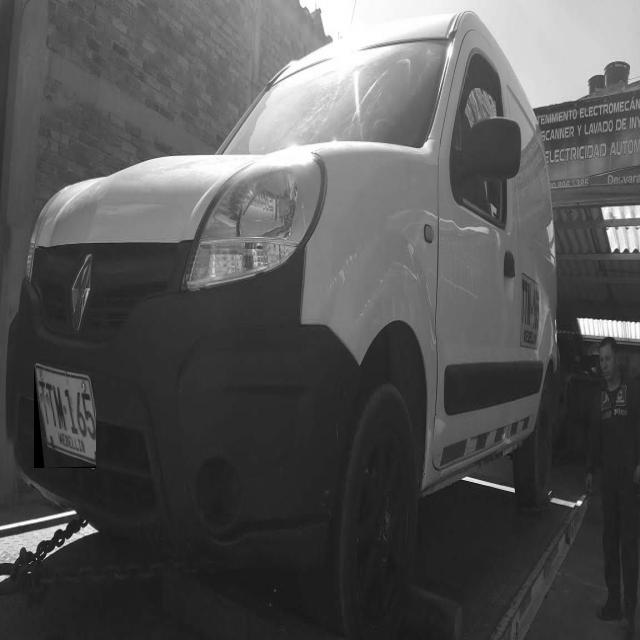plate: (35, 366, 96, 464)
